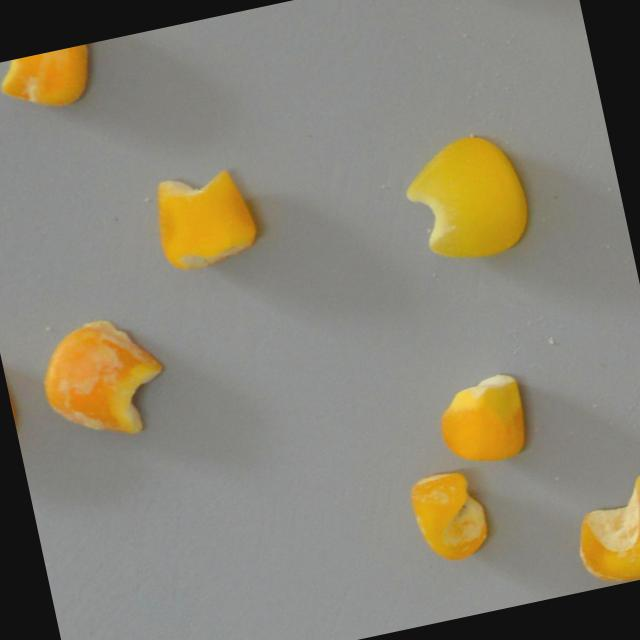no_canjicado: (395, 128, 534, 269), (147, 162, 262, 274)
no_desgerminado: (429, 368, 533, 470)
pelicula: (29, 307, 176, 451), (404, 463, 495, 566), (562, 472, 640, 591), (0, 42, 98, 116)
